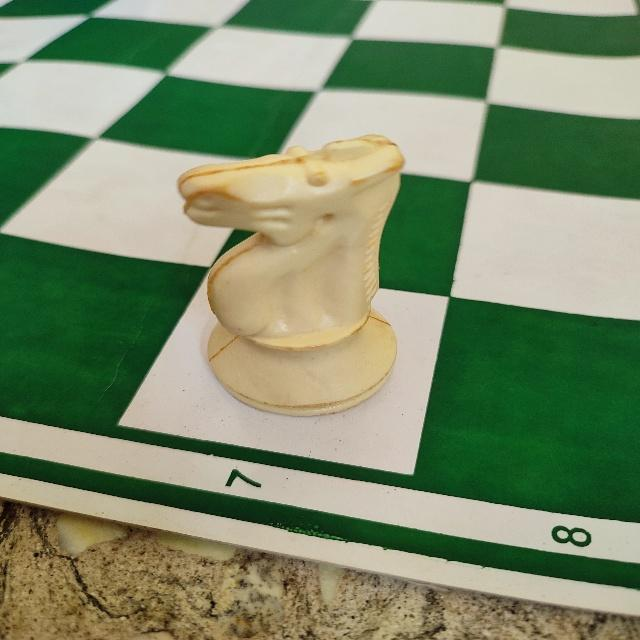Knight: (168, 130, 406, 422)
